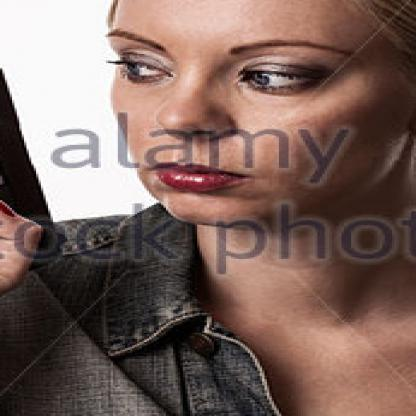gun: (0, 57, 75, 304)
